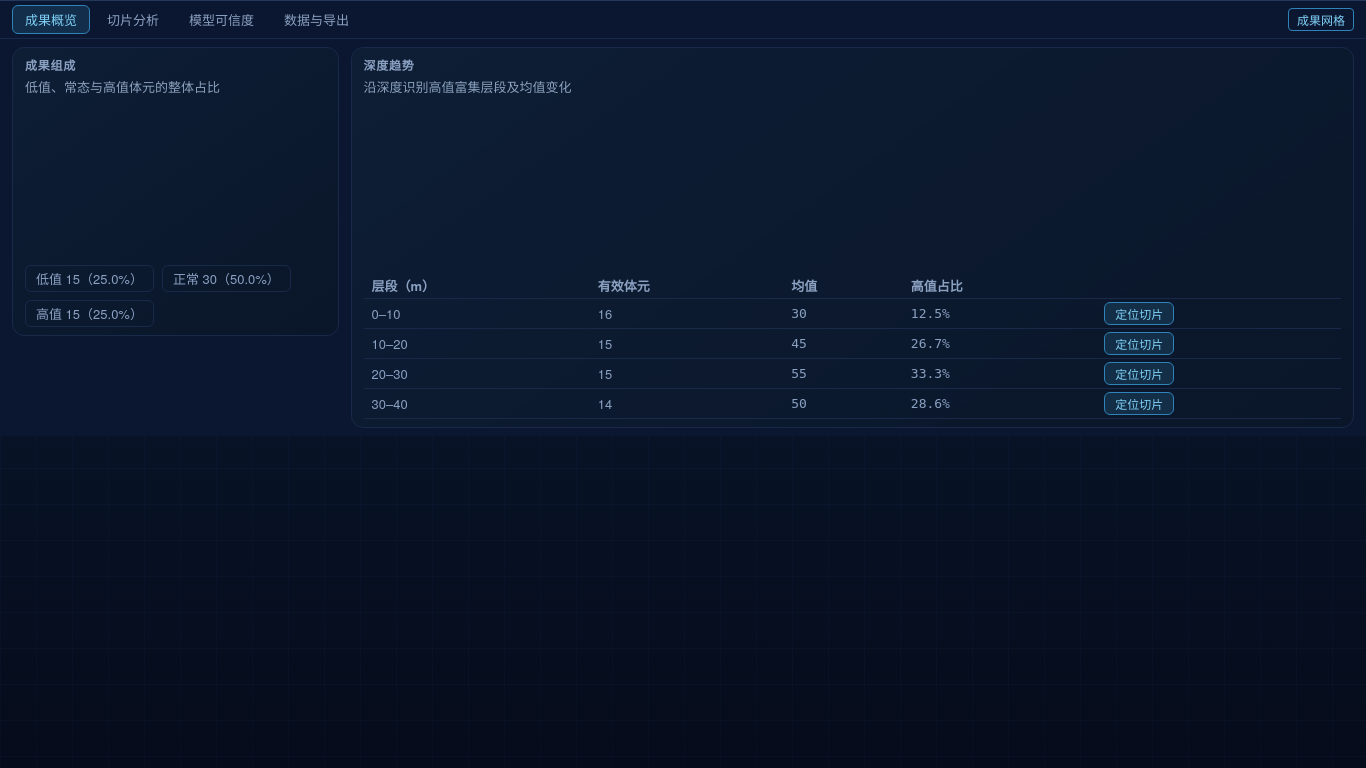
Test case: ResultGridEvidence（V6 四标签） › 数据溯源：输入样本标注 + 成果身份 + 资产身份
The width and height of the screenshot is (1366, 768).
Click the tab with test id "ge-tab-provenance".
click(316, 20)  # box [271, 5, 362, 34]
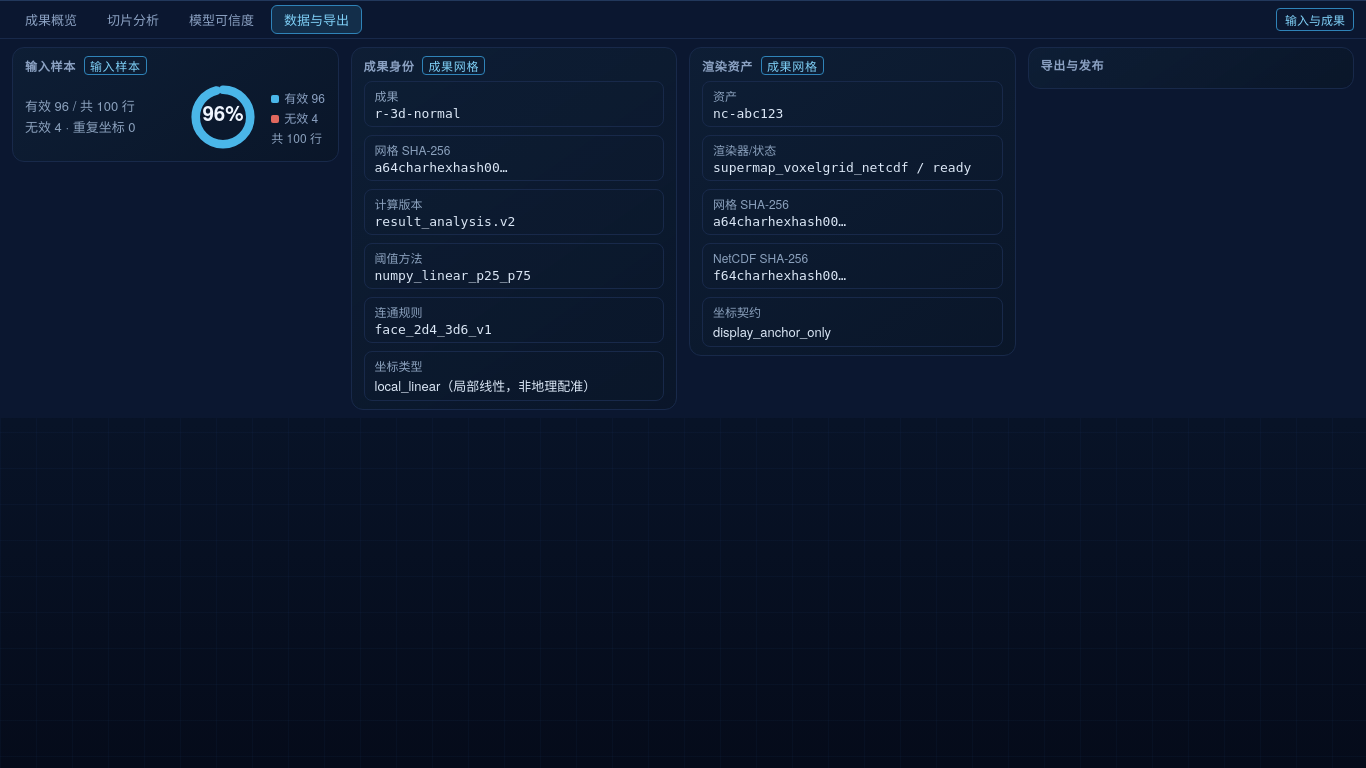
Check: the element with test id "ge-pane-provenance" shows "输入样本", box [25, 56, 76, 74]
Check: the element with test id "ge-pane-provenance" shows "96", box [25, 96, 135, 115]
Check: the element with test id "ge-pane-provenance" shows "result_analysis.v2", box [374, 214, 515, 229]
